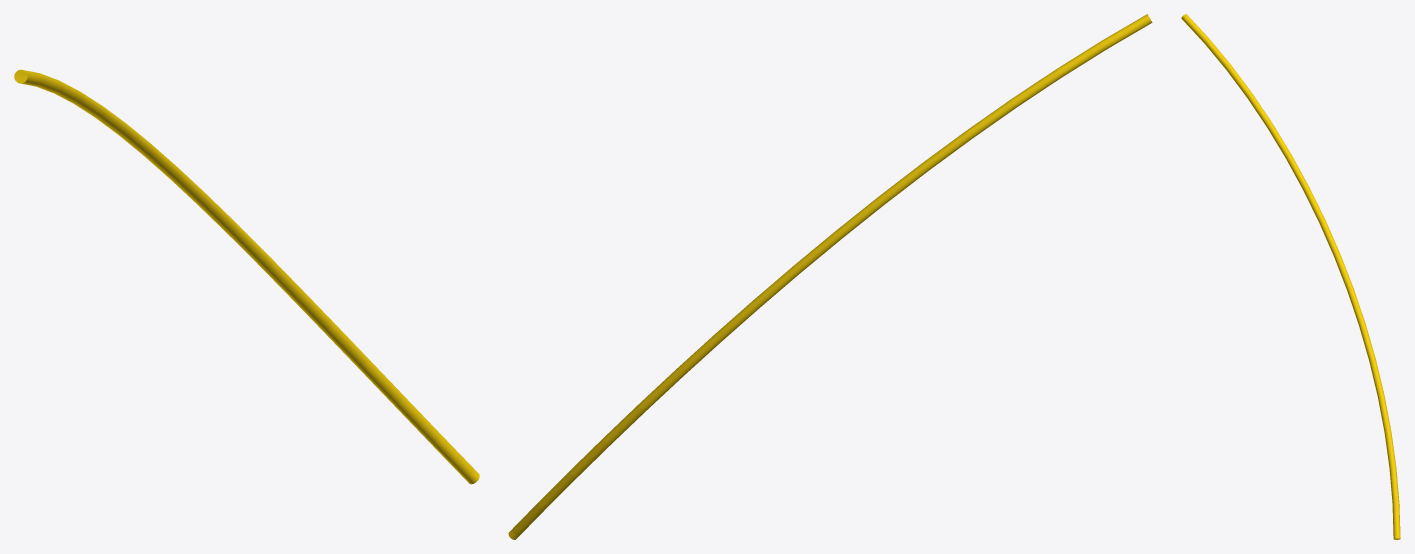
Rendered from Event_421364160_track_30.fbx.
3 renders of one model, left to right at view 1: azimuth 30°, elevation 25°; view 2: azimuth 150°, elevation 25°; view 3: azimuth 270°, elevation 25°, orthographic. The views are drawn at different scales.
Parts seen in each view (by area): view 1: Model; view 2: Model; view 3: Model.
Boxes of the visible parts, <box> form: Model: <box>14,69,479,484</box>; Model: <box>508,14,1152,539</box>; Model: <box>1181,14,1400,539</box>.
Bounding box in the file's own units: 2.25 × 2.32 × 1.26.
